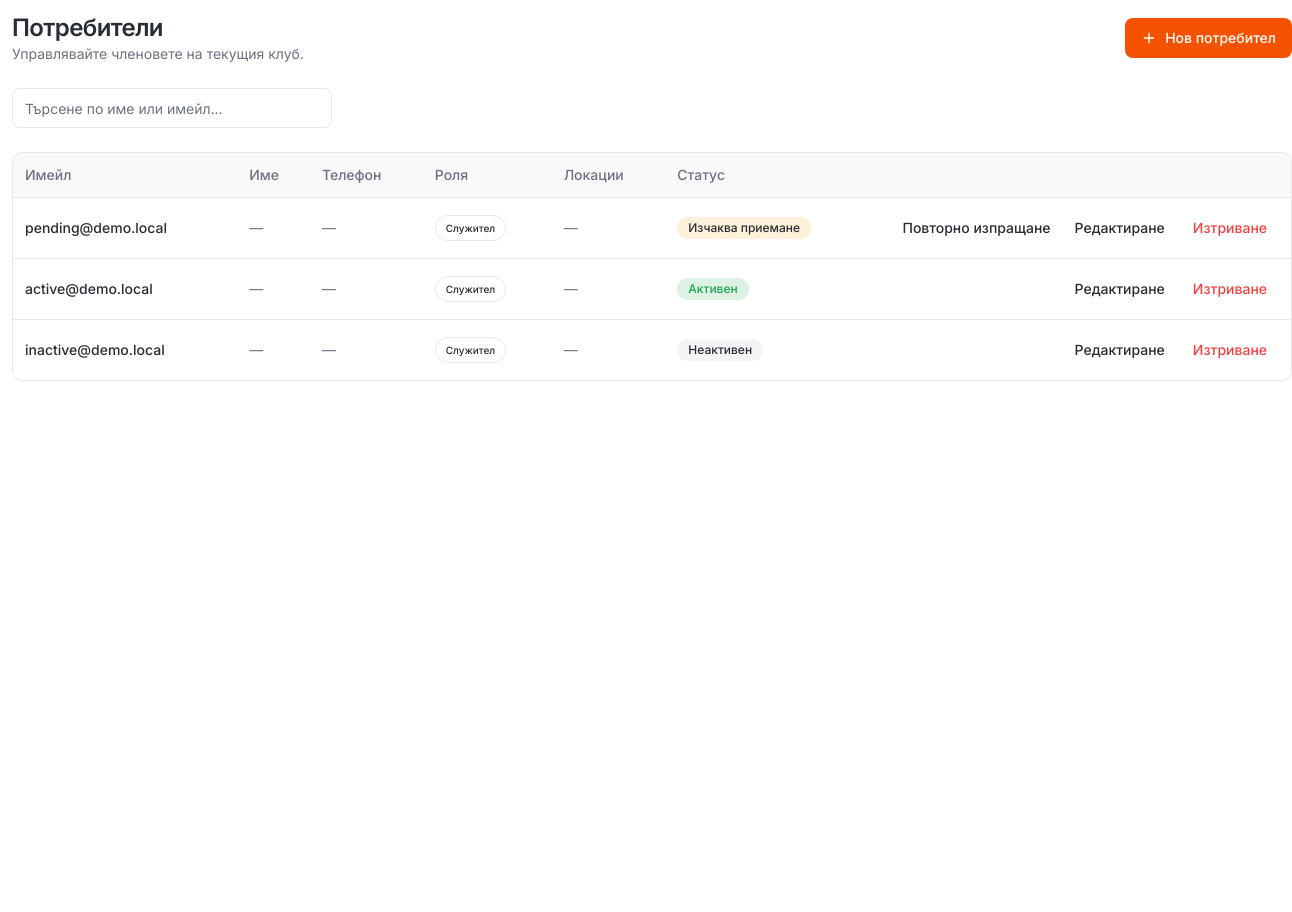
Scenario: Users list — account status badges and invite resend › posts to /users/:id/invite and reports that the mail went out
The width and height of the screenshot is (1292, 912).
expect the text "pending@demo.local" is shown: met, box [13,198,237,258]
Click the button "Повторно изпращане": {"x": 977, "y": 228} [890,210,1063,246]
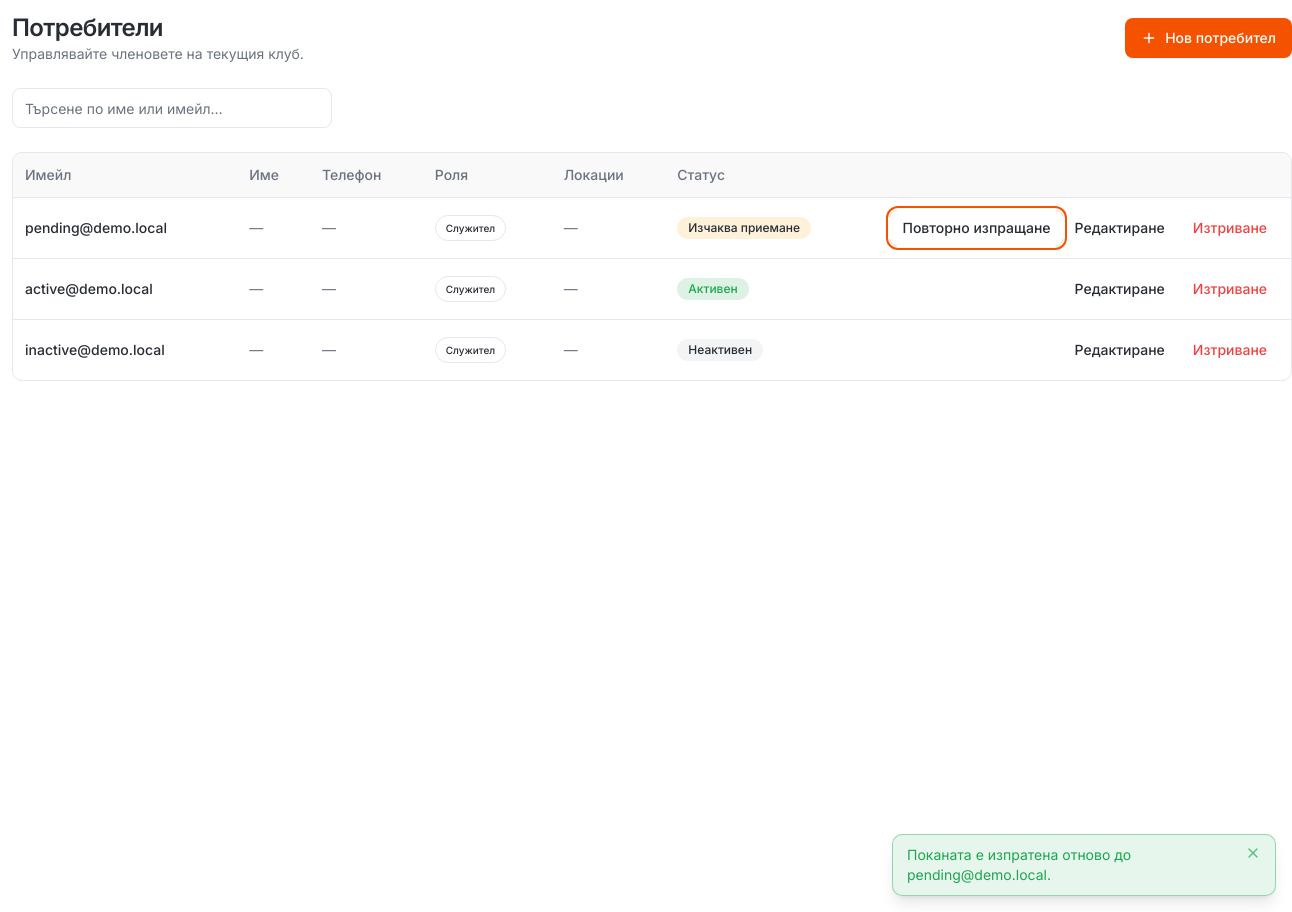
expect the message reads "Поканата е изпратена отново до pending@demo.local.": met, box [907,846,1131,883]
